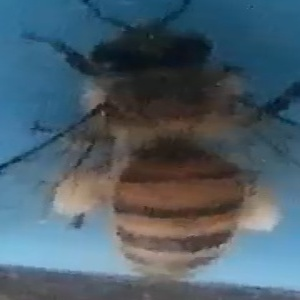bee: (23, 1, 295, 281)
